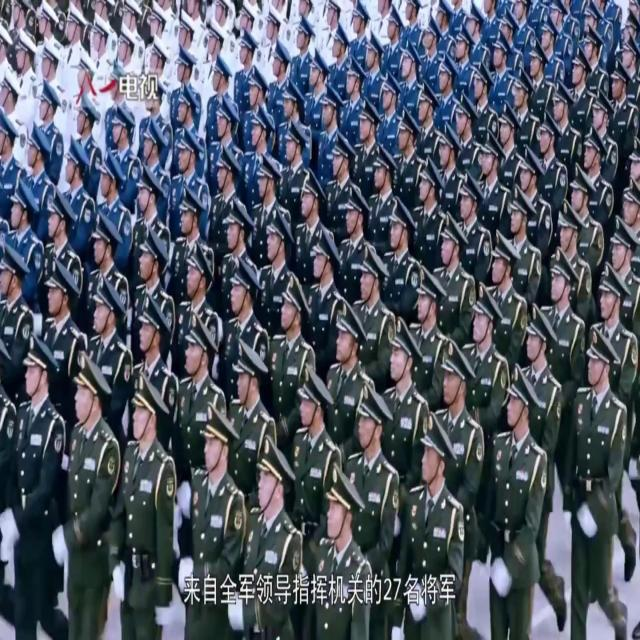Soldier: (569, 332, 630, 640), (62, 354, 119, 640), (484, 364, 540, 640), (119, 365, 172, 640), (180, 407, 238, 640), (18, 339, 60, 640), (407, 410, 461, 640), (245, 437, 300, 640), (315, 460, 374, 640), (438, 336, 482, 500), (352, 388, 396, 528), (173, 317, 224, 435), (544, 250, 581, 410), (386, 318, 424, 472), (295, 368, 336, 503), (521, 301, 557, 448), (591, 266, 640, 370), (466, 282, 504, 416), (223, 255, 268, 357), (274, 275, 312, 395), (355, 244, 390, 374), (234, 337, 274, 449), (378, 195, 418, 303), (411, 262, 444, 392), (328, 299, 367, 405), (176, 246, 217, 344), (438, 210, 472, 325), (90, 283, 130, 379), (42, 260, 80, 361), (486, 236, 526, 328), (0, 247, 29, 369), (8, 181, 42, 285), (506, 187, 540, 290), (335, 185, 370, 282), (59, 138, 94, 235), (135, 299, 171, 392), (559, 205, 591, 304), (459, 177, 491, 274), (310, 230, 336, 348), (89, 213, 127, 292), (135, 226, 171, 309), (519, 150, 552, 240), (260, 207, 291, 298), (97, 149, 131, 230), (46, 191, 79, 273), (536, 114, 566, 202), (20, 133, 54, 209), (572, 168, 601, 257), (416, 158, 442, 254), (480, 129, 506, 224), (294, 172, 326, 244), (579, 130, 610, 204), (111, 104, 137, 192), (612, 62, 638, 149), (513, 70, 541, 150), (367, 148, 394, 230), (437, 123, 464, 204), (136, 163, 166, 234), (454, 96, 480, 177), (36, 82, 61, 164), (471, 64, 499, 137), (222, 202, 252, 268), (177, 186, 205, 256), (551, 82, 575, 161), (396, 110, 419, 192), (490, 28, 514, 106), (527, 43, 552, 117), (432, 52, 457, 122), (418, 81, 440, 160), (175, 128, 202, 192), (378, 75, 402, 146), (318, 83, 341, 157), (212, 146, 241, 204), (569, 48, 593, 118), (604, 217, 634, 271), (540, 20, 564, 86), (398, 39, 420, 110), (344, 56, 364, 134), (499, 108, 519, 184), (328, 135, 356, 188), (293, 14, 314, 83), (77, 89, 100, 152), (210, 91, 237, 144), (304, 46, 326, 111), (254, 157, 279, 214), (245, 99, 270, 156), (466, 2, 487, 67), (268, 40, 290, 102), (452, 30, 472, 98), (280, 119, 305, 172), (361, 34, 382, 97), (591, 90, 614, 143), (358, 97, 379, 150), (143, 116, 166, 163), (175, 43, 200, 86), (147, 1, 169, 46), (176, 84, 198, 128), (619, 175, 640, 220), (245, 68, 268, 108), (203, 17, 226, 57), (239, 29, 257, 79), (280, 78, 302, 118), (210, 60, 232, 98)
